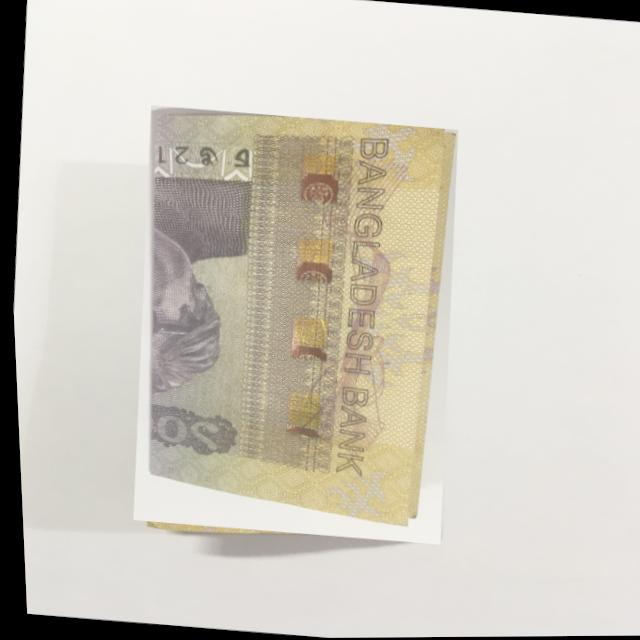Taka: (114, 103, 471, 546)
